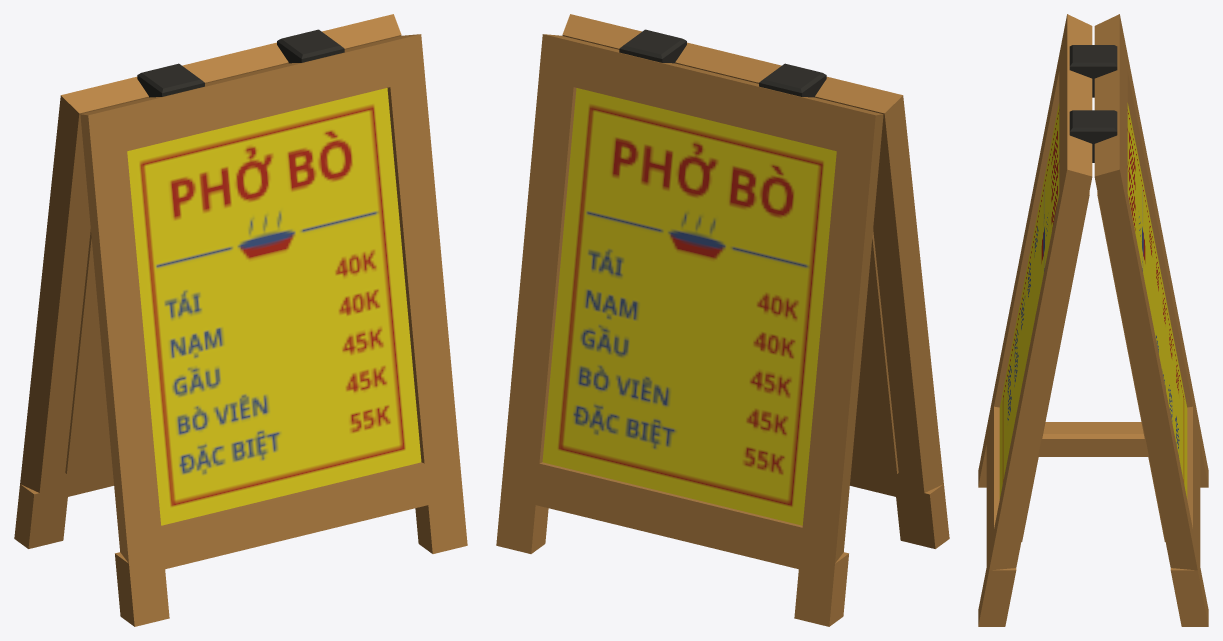
Rendered from SM_Sign_MenuAFrame_PhoBo_01.fbx.
3 renders of one model, left to right at view 1: azimuth 30°, elevation 25°; view 2: azimuth 150°, elevation 25°; view 3: azimuth 270°, elevation 25°, orthographic. The views are drawn at different scales.
Visible parts, largest first — view 1: SM_Sign_MenuAFrame_PhoBo_01; view 2: SM_Sign_MenuAFrame_PhoBo_01; view 3: SM_Sign_MenuAFrame_PhoBo_01.
Part boxes in pixels (x1,y1,x2,y2): SM_Sign_MenuAFrame_PhoBo_01: (14,14,467,626); SM_Sign_MenuAFrame_PhoBo_01: (496,14,949,626); SM_Sign_MenuAFrame_PhoBo_01: (978,14,1208,626).
Size of the model in its own units: 0.62 by 0.8598 by 0.3883.
Materials: 1 (1 with a texture image).
